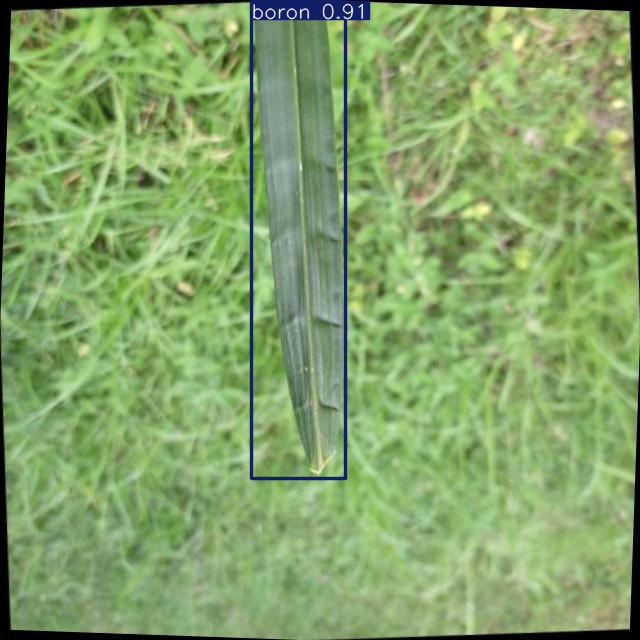nitrogen: (251, 2, 346, 478)
